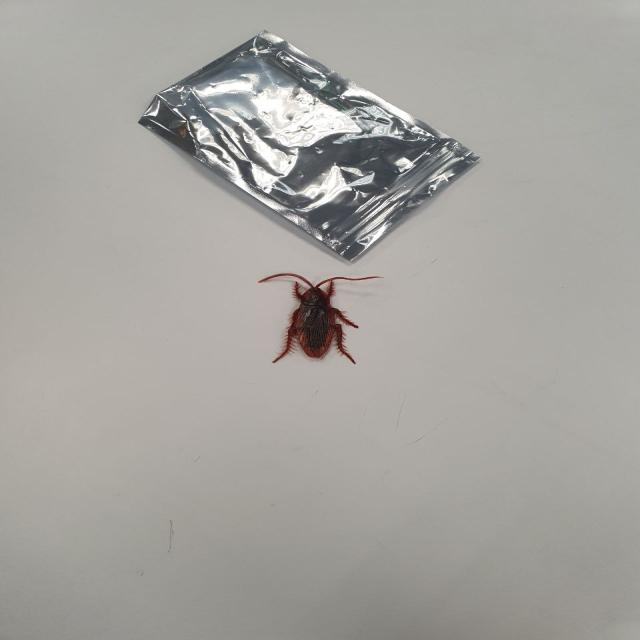Cockroach: (249, 263, 383, 368)
